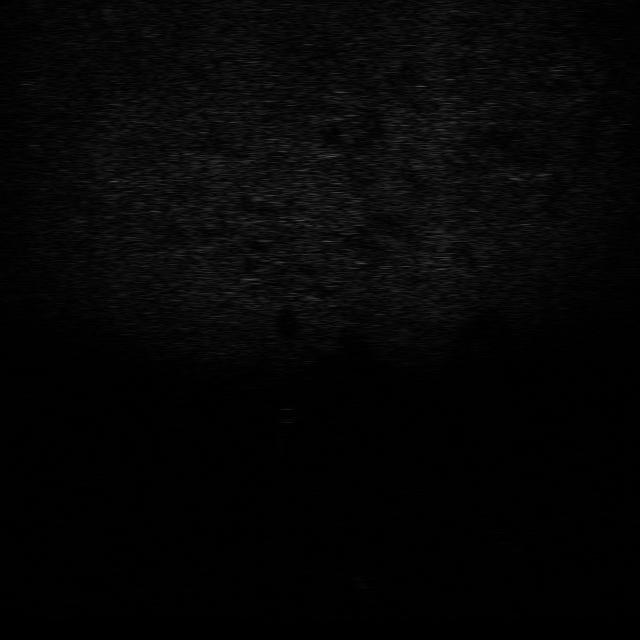ball: (272, 406, 302, 426)
metal bucket: (318, 565, 380, 598)
tyre: (473, 518, 528, 552)
